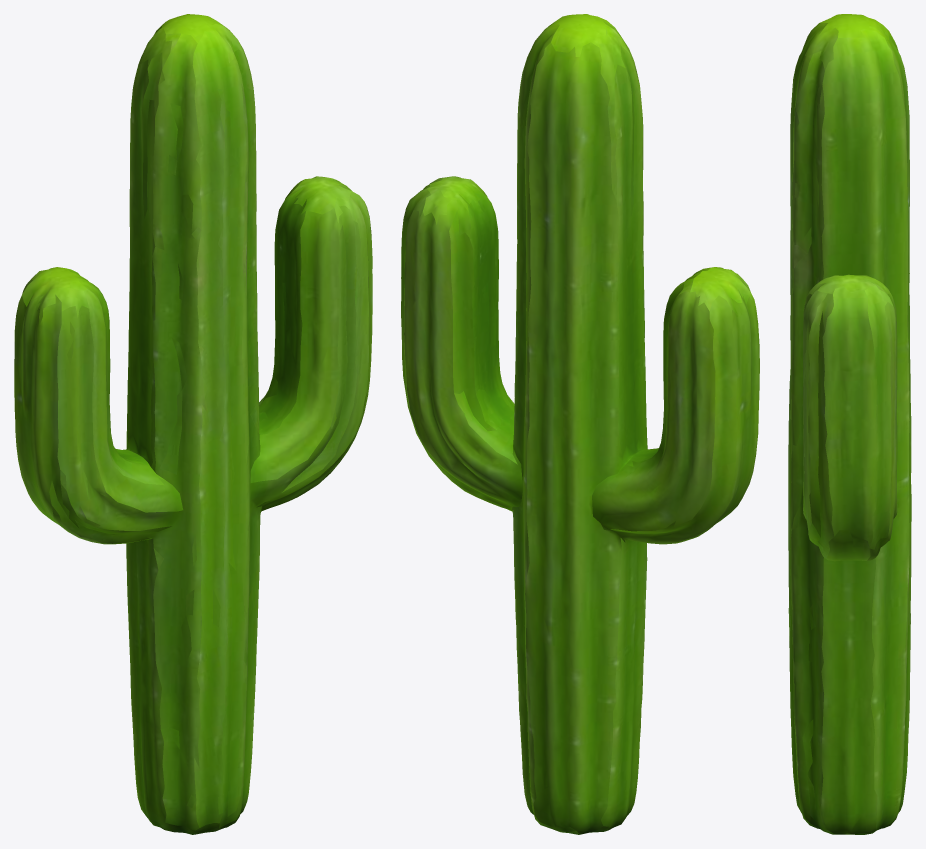
The model's file is a-tall-green-saguaro-cactus-with-42484d.glb.
3 views of the same model, side by side, from view 1: azimuth 30°, elevation 25°; view 2: azimuth 150°, elevation 25°; view 3: azimuth 270°, elevation 25° (orthographic).
Visible parts, largest first — view 1: geometry_0; view 2: geometry_0; view 3: geometry_0.
Boxes of the visible parts, x1,y1,x2,y2 form: geometry_0: [14, 14, 372, 834]; geometry_0: [401, 14, 759, 834]; geometry_0: [788, 14, 911, 834].
Size of the model in its own units: 0.4458 by 1 by 0.1396.
Materials: 1 (1 with a texture image).
